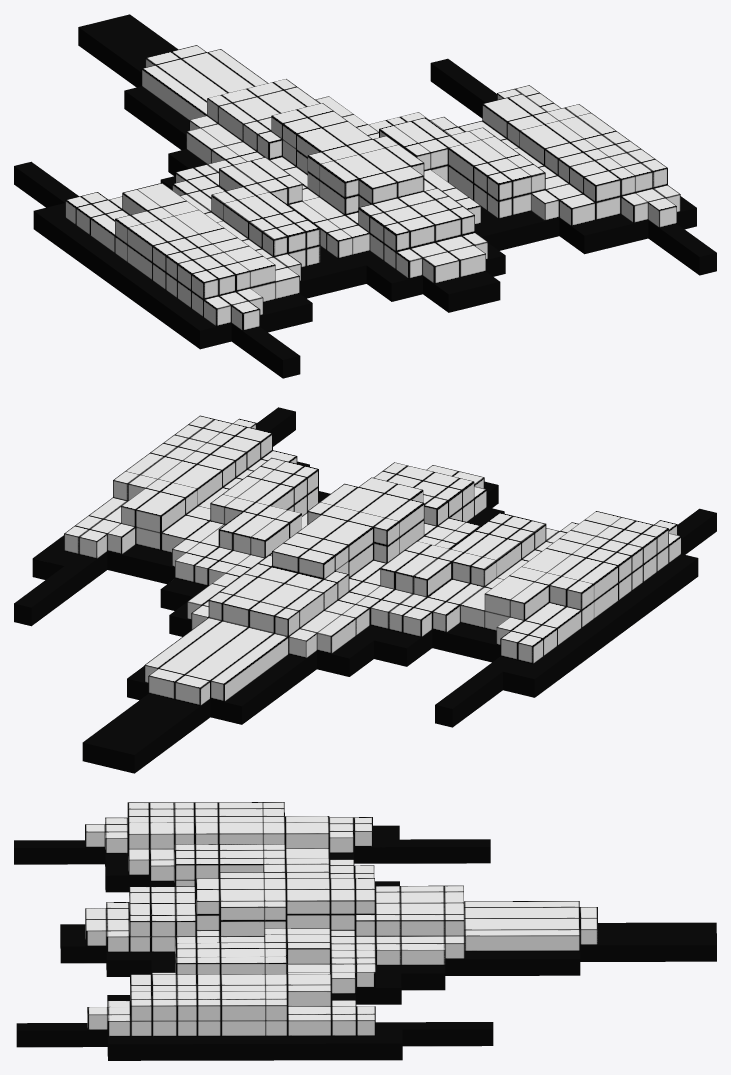
The picture shows the model from 3 angles, top to bottom: view 1: azimuth 30°, elevation 25°; view 2: azimuth 150°, elevation 25°; view 3: azimuth 270°, elevation 25°; orthographic projection. The views are drawn at different scales.
Visible parts, largest first — view 1: Ship; view 2: Ship; view 3: Ship.
Boxes of the visible parts, x1,y1,x2,y2 form: Ship: [14, 14, 716, 378]; Ship: [14, 407, 716, 773]; Ship: [14, 802, 716, 1060].
Size of the model in its own units: 6.84 by 0.9025 by 9.29.
1 material, 1 textured.
